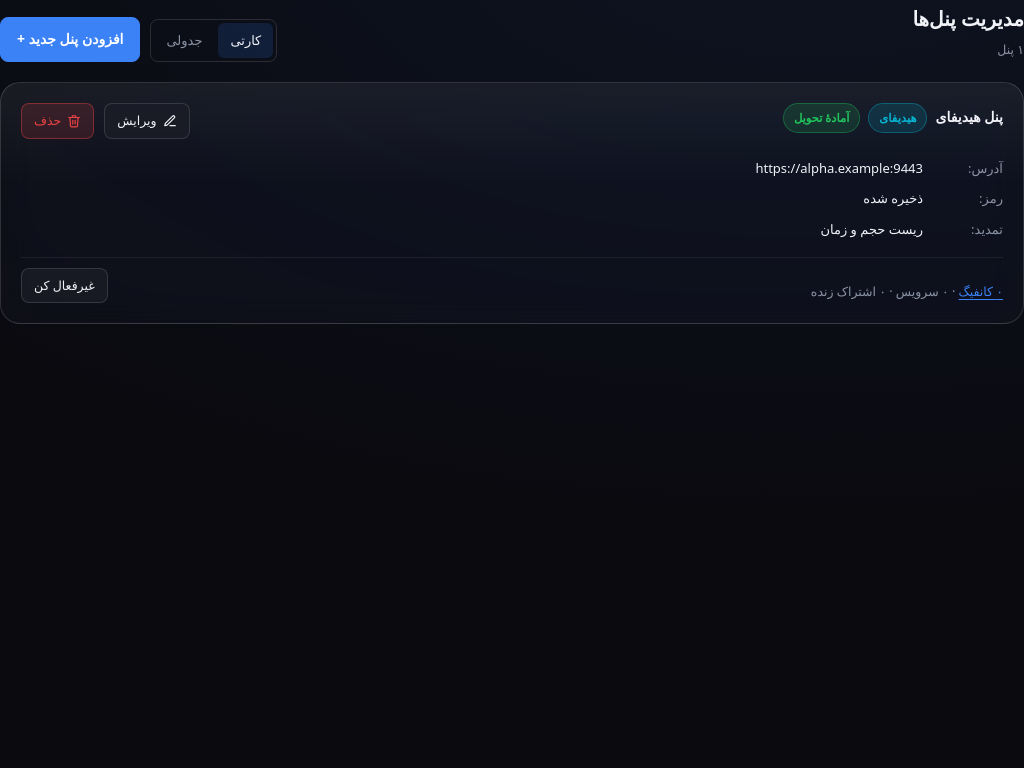
it: «فروش به نماینده» › is not offered on a panel that is not PasarGuard
Expected: the text "پنل هیدیفای" is shown, [936,104,1003,131]
Click the button "ویرایش".
click(147, 121)  # box [104,103,190,139]
(page scrolled)
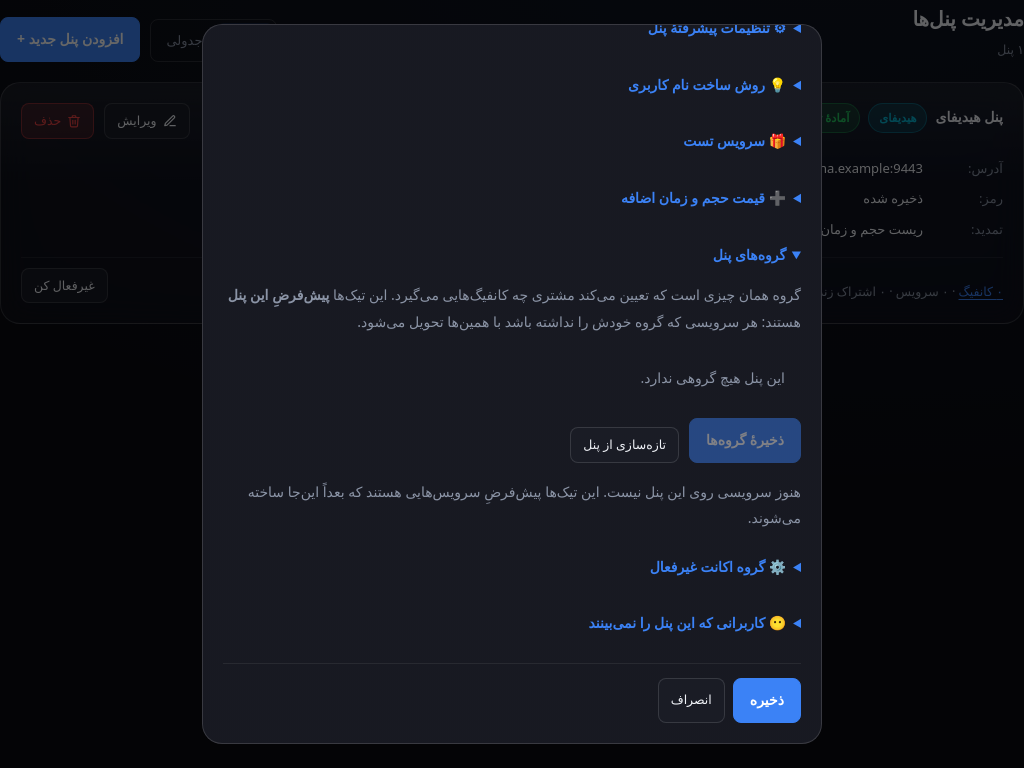
Expected: the button "ذخیره" is shown, [733,678,801,722]
